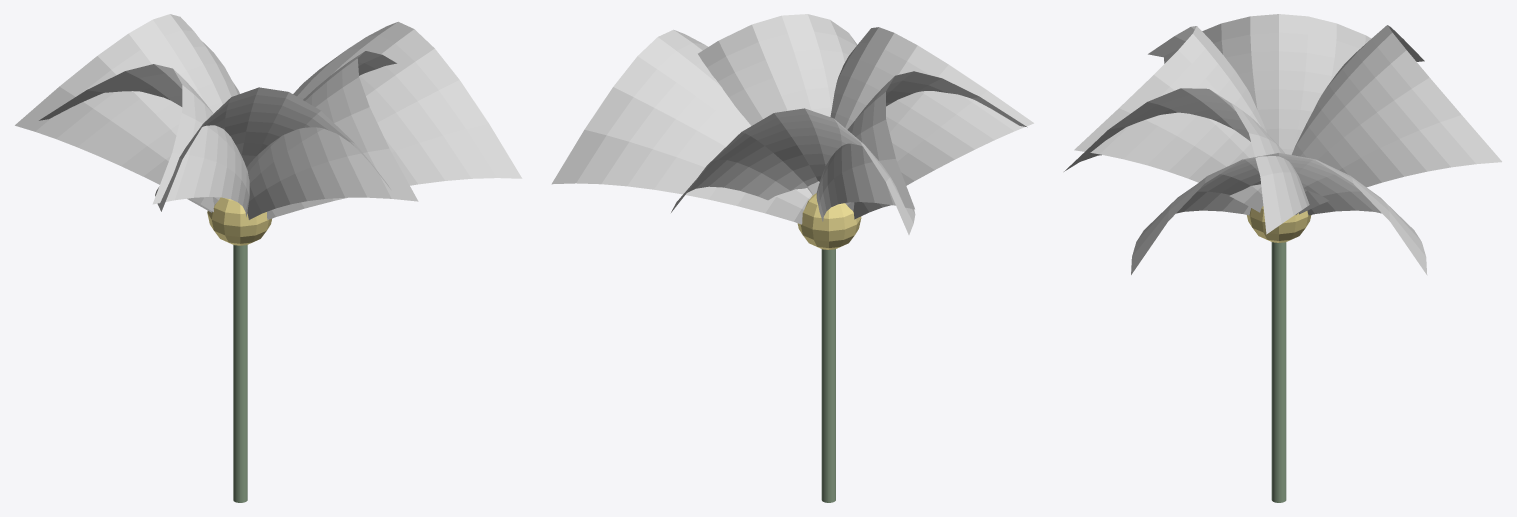
File: Violet_C.glb
The picture shows the model from 3 angles, left to right: view 1: azimuth 30°, elevation 25°; view 2: azimuth 150°, elevation 25°; view 3: azimuth 270°, elevation 25°; orthographic projection. The views are drawn at different scales.
Parts seen in each view (by area): view 1: Violet_C; view 2: Violet_C; view 3: Violet_C.
Part boxes in pixels (left/top/right/bottom): Violet_C: left=15, top=14, right=522, bottom=502; Violet_C: left=551, top=14, right=1033, bottom=502; Violet_C: left=1064, top=14, right=1501, bottom=502.
Bounding box in the file's own units: 2.02 × 2.4 × 2.1.
